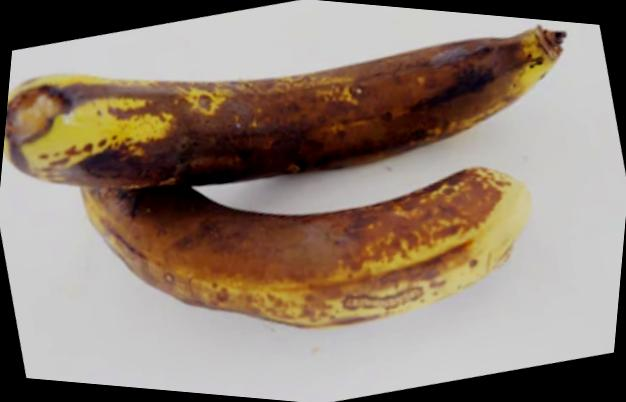Banana Overripe: (0, 0, 623, 359)
